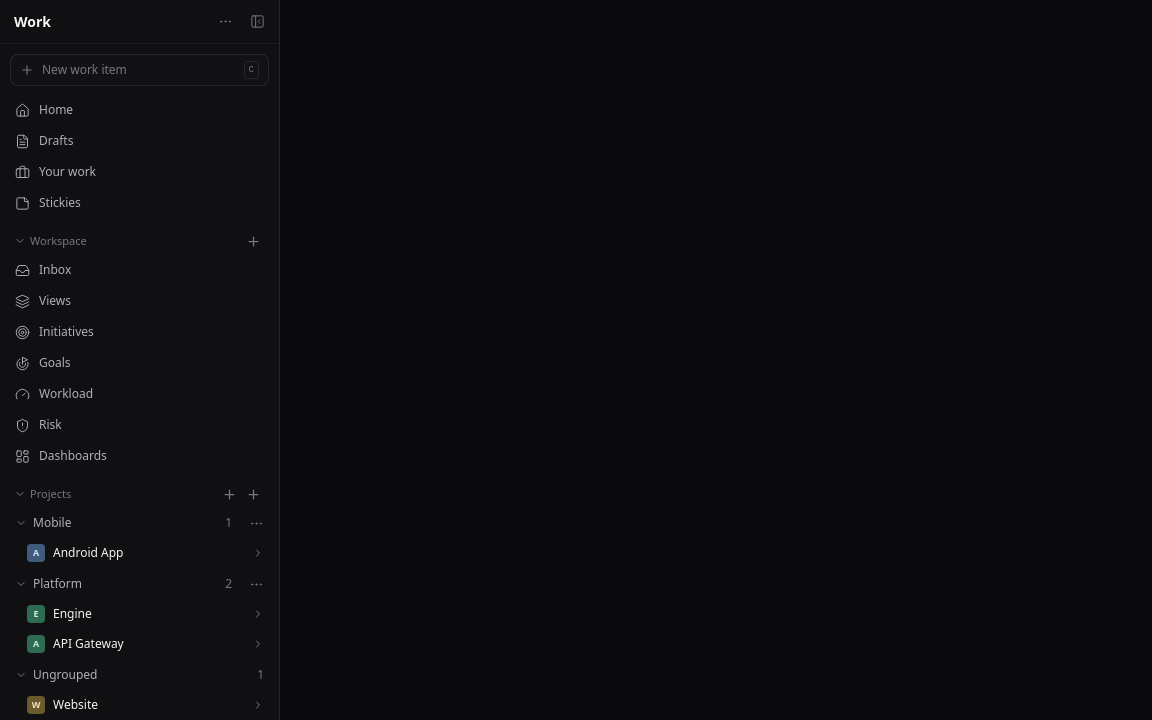
Scenario: teamspace manage dialog › rename updates the group header
Click the button named "Platform teamspace menu" at (256, 584), box [244,572,268,596]
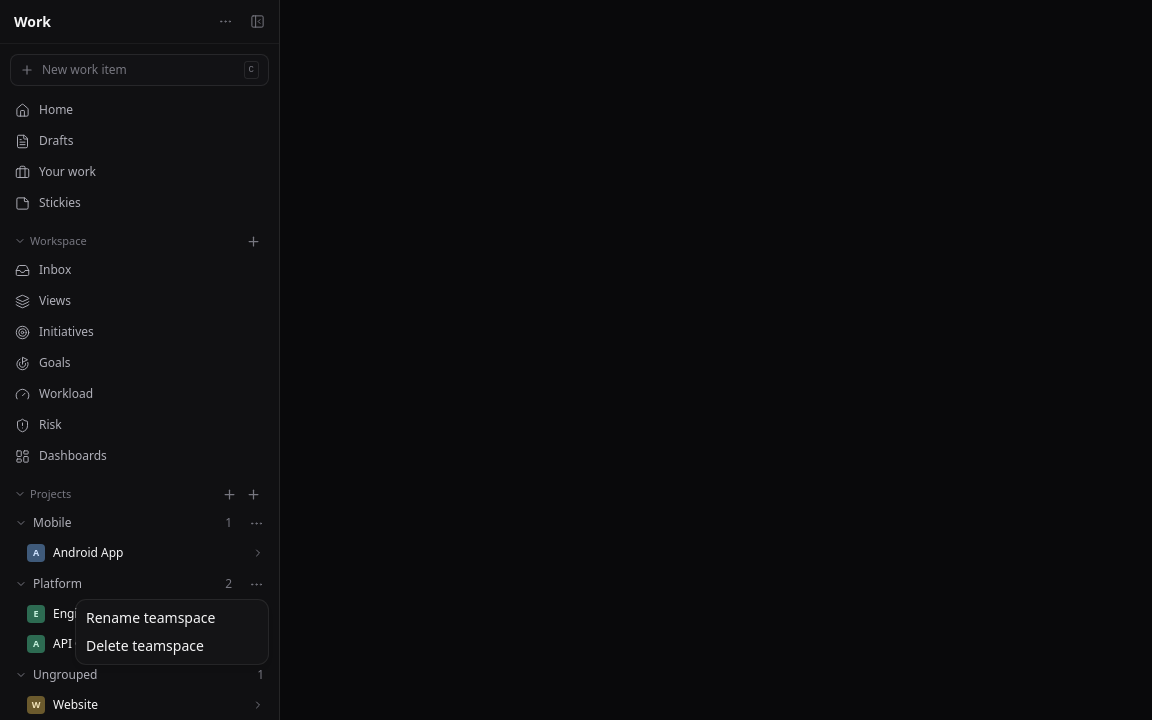
Click the menu item "Rename teamspace" at (151, 618), box [86,608,215,627]
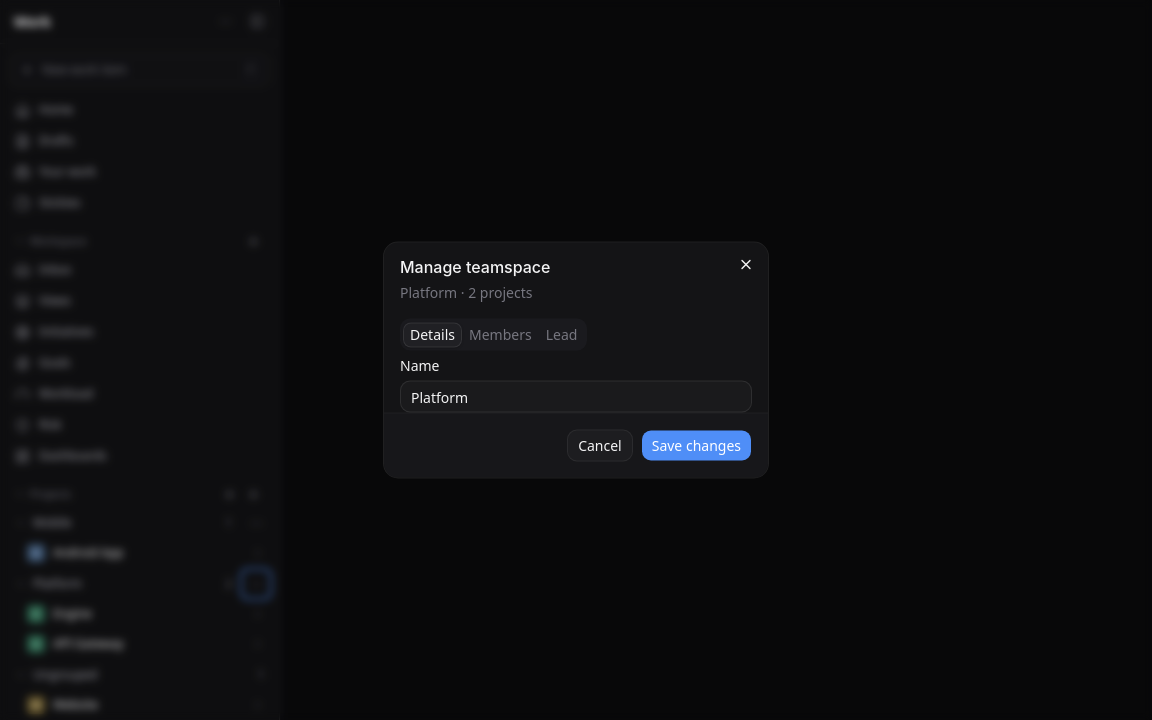
Check: the field labelled "Name" holds "Platform"
Replace the text in the field labelled "Name" with "Platform X" at (576, 396), box [400,380,752,412]
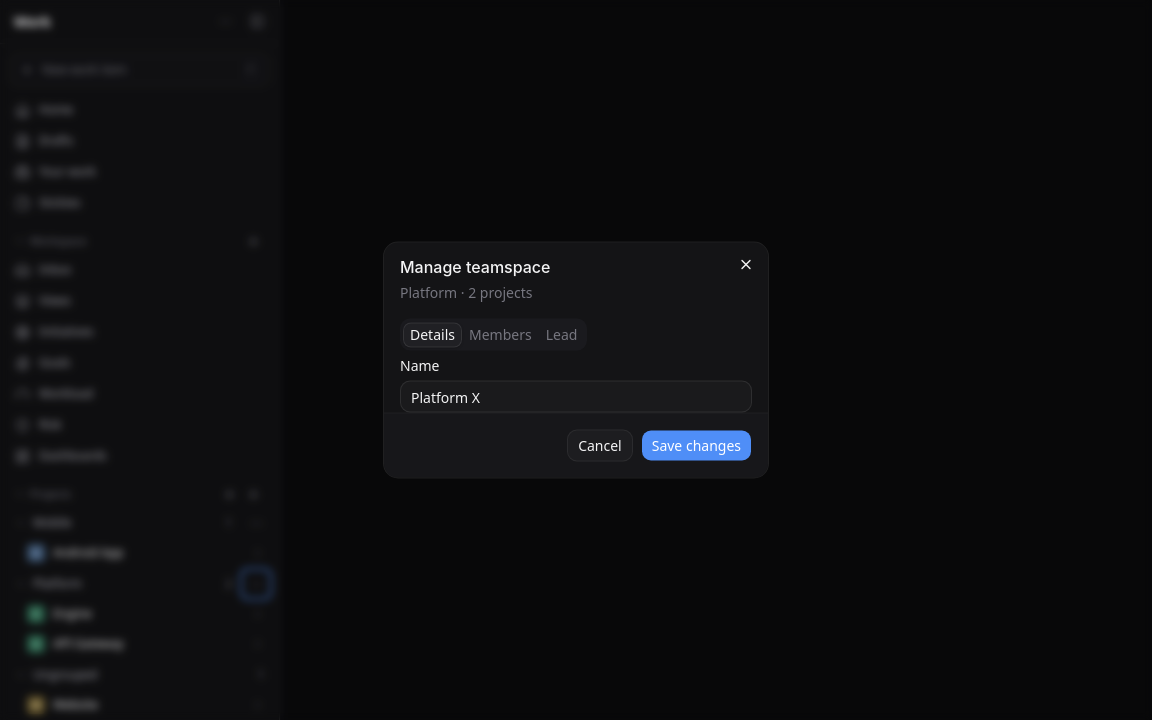
Click the button "Save changes" at (696, 446), box [641,430,752,462]
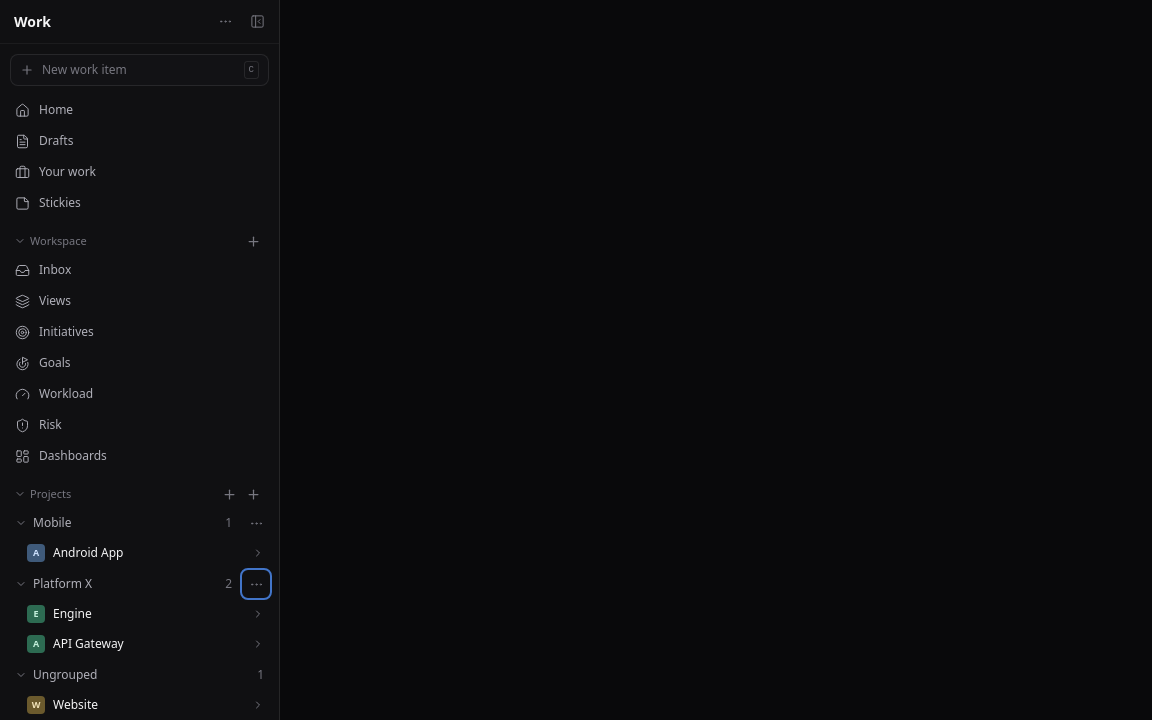
Check: the text "Platform X" is shown, box [33,575,92,593]
